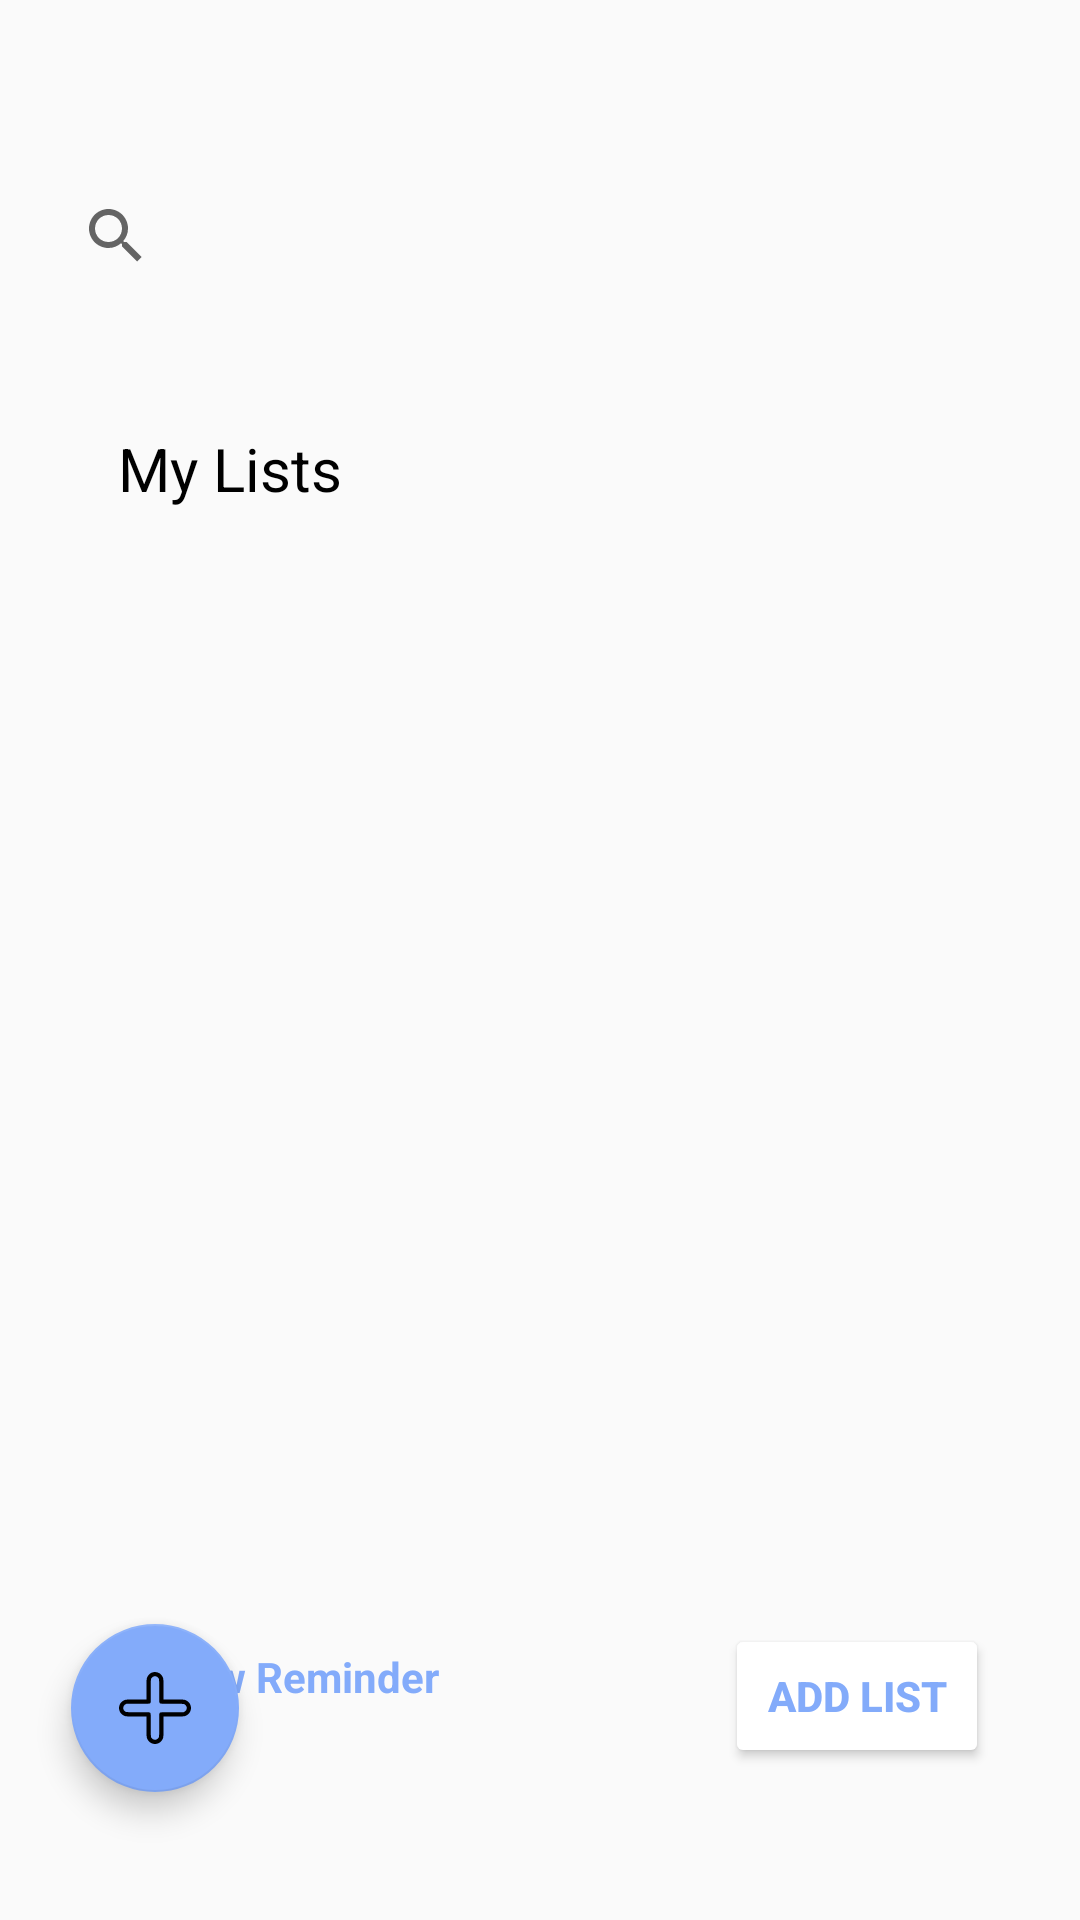

Where icons sit on this 1080px×1920px app screen, as (x1, y1, x2, y2):
plus: (71, 1624, 239, 1792)
